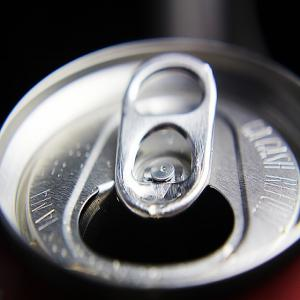Can: (2, 35, 300, 296)
